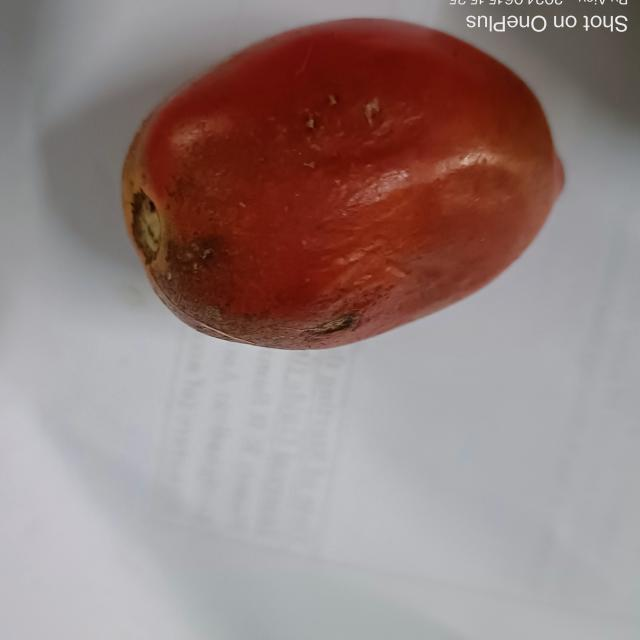Botrytis: (172, 242, 228, 282), (296, 314, 357, 346), (356, 95, 396, 125), (298, 107, 325, 132)
